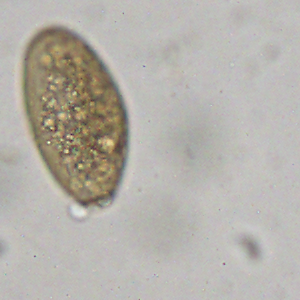Fasciola_hepatica_egg: (21, 24, 131, 209)
